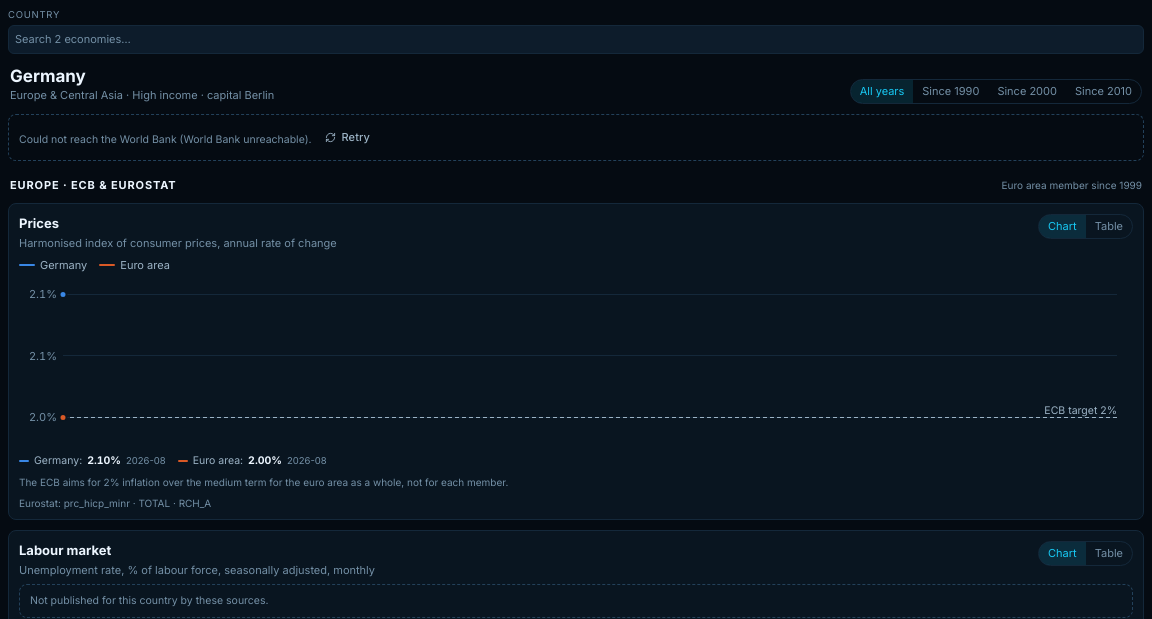
Scenario: CountryLookupPanel › reports a World Bank failure with a retry instead of a blank page
The width and height of the screenshot is (1152, 619).
Check: the text "Could not reach the World Bank (World Bank unreachable). Retry" is shown, box [8,114,1144,160]
Click the button "Retry": (348, 137) [314,122,381,152]
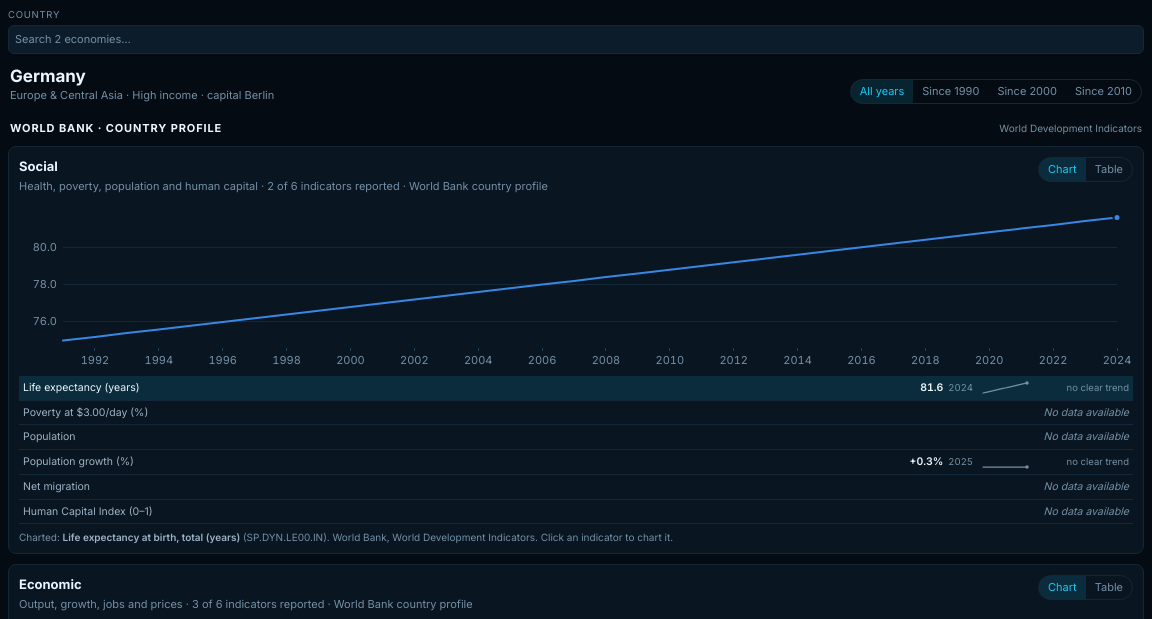
Check: the element "Social" is shown
